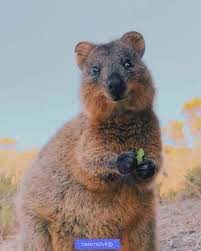quokka: (0, 28, 173, 251)
